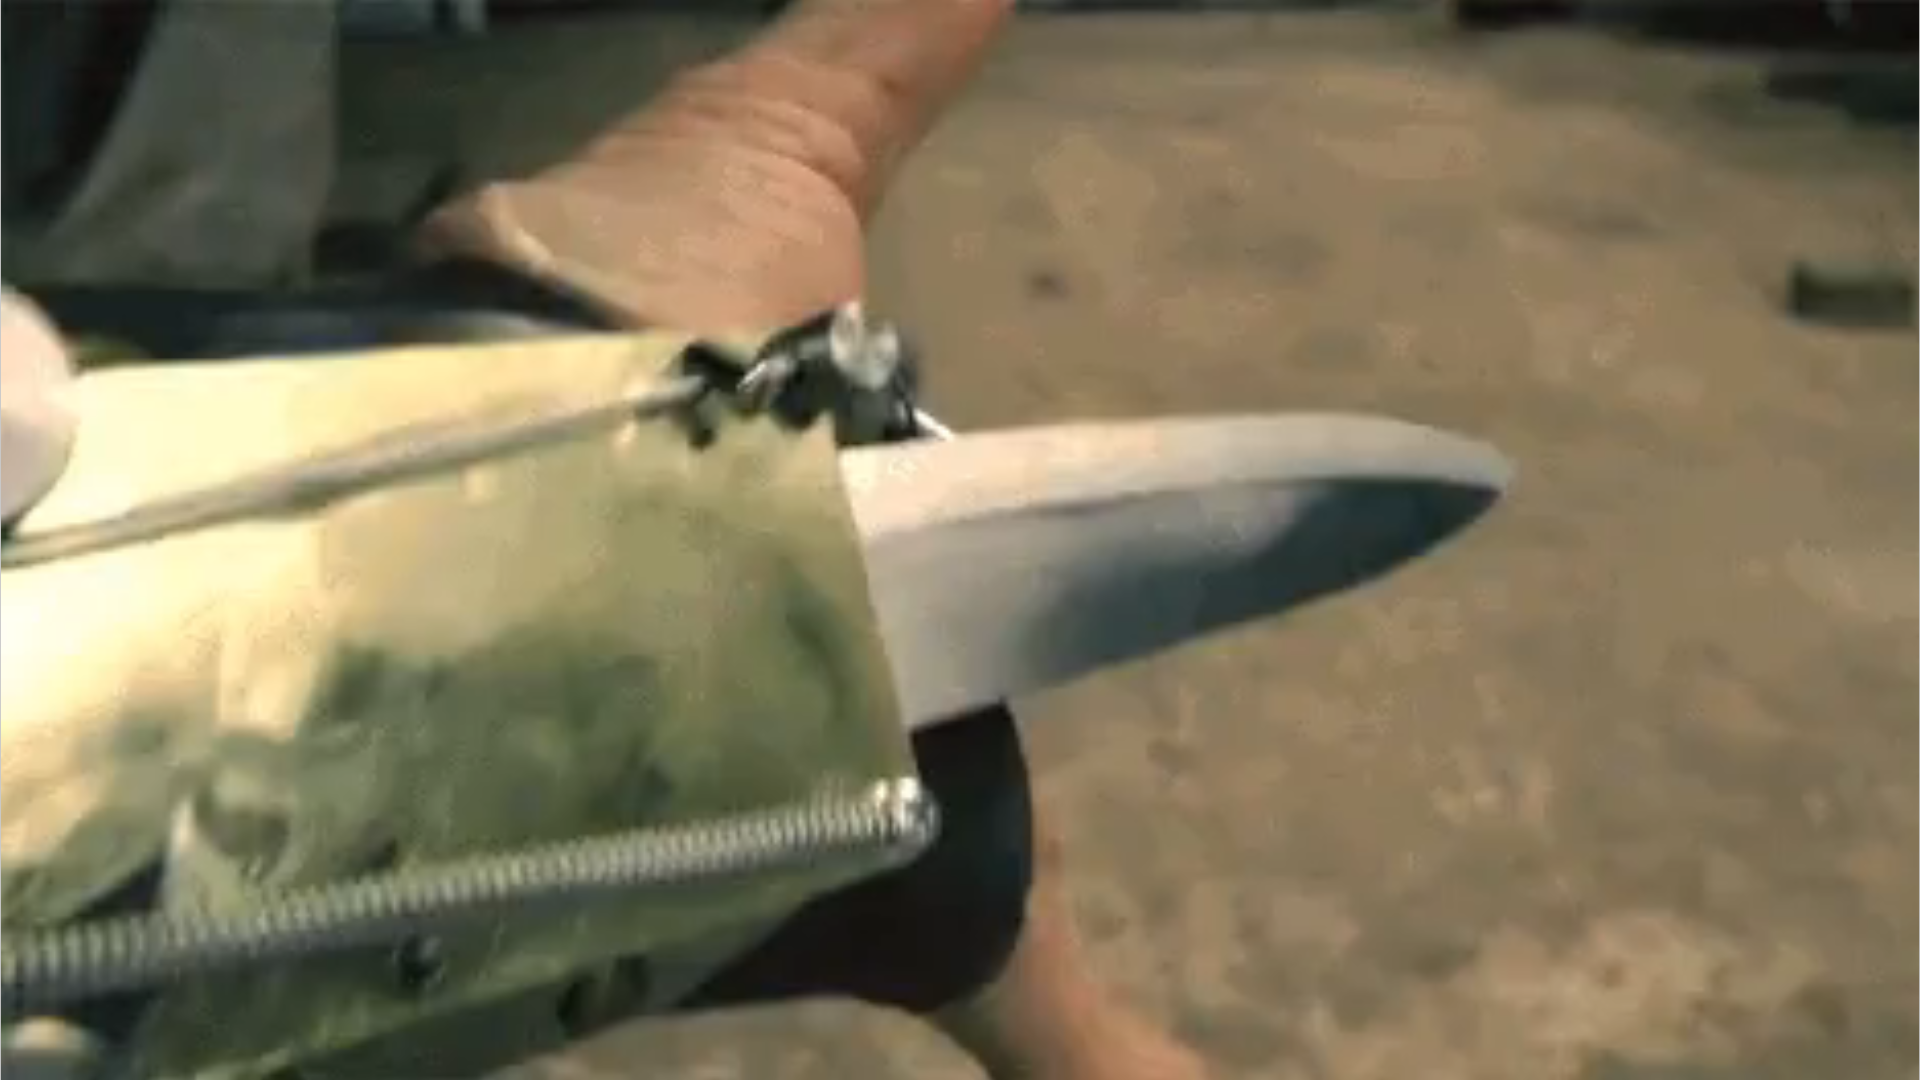cortante: (839, 407, 1519, 731)
